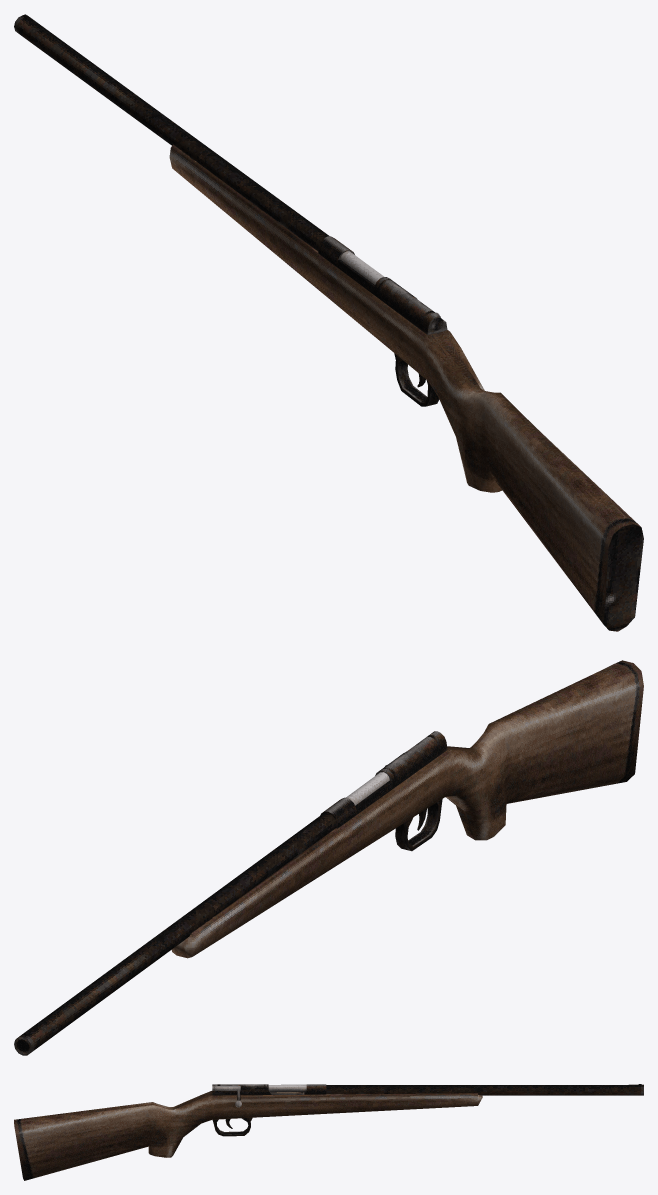
The model's file is gun_rifle.glb.
The picture shows the model from 3 angles, top to bottom: view 1: azimuth 30°, elevation 25°; view 2: azimuth 150°, elevation 25°; view 3: azimuth 270°, elevation 25°; orthographic projection. The views are drawn at different scales.
Parts seen in each view (by area): view 1: Rifle; view 2: Rifle, Bolt_Action; view 3: Rifle, Bolt_Action.
Boxes of the visible parts, x1,y1,x2,y2 form: Rifle: [14, 14, 643, 631]; Rifle: [14, 660, 643, 1055]; Bolt_Action: [346, 765, 389, 805]; Rifle: [14, 1084, 643, 1180]; Bolt_Action: [212, 1084, 306, 1107].
Size of the model in its own units: 0.5033 by 1.96 by 11.61.
2 materials, 2 textured.
